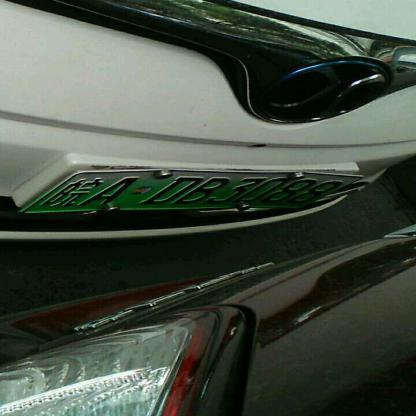lp: (78, 172, 362, 212)
